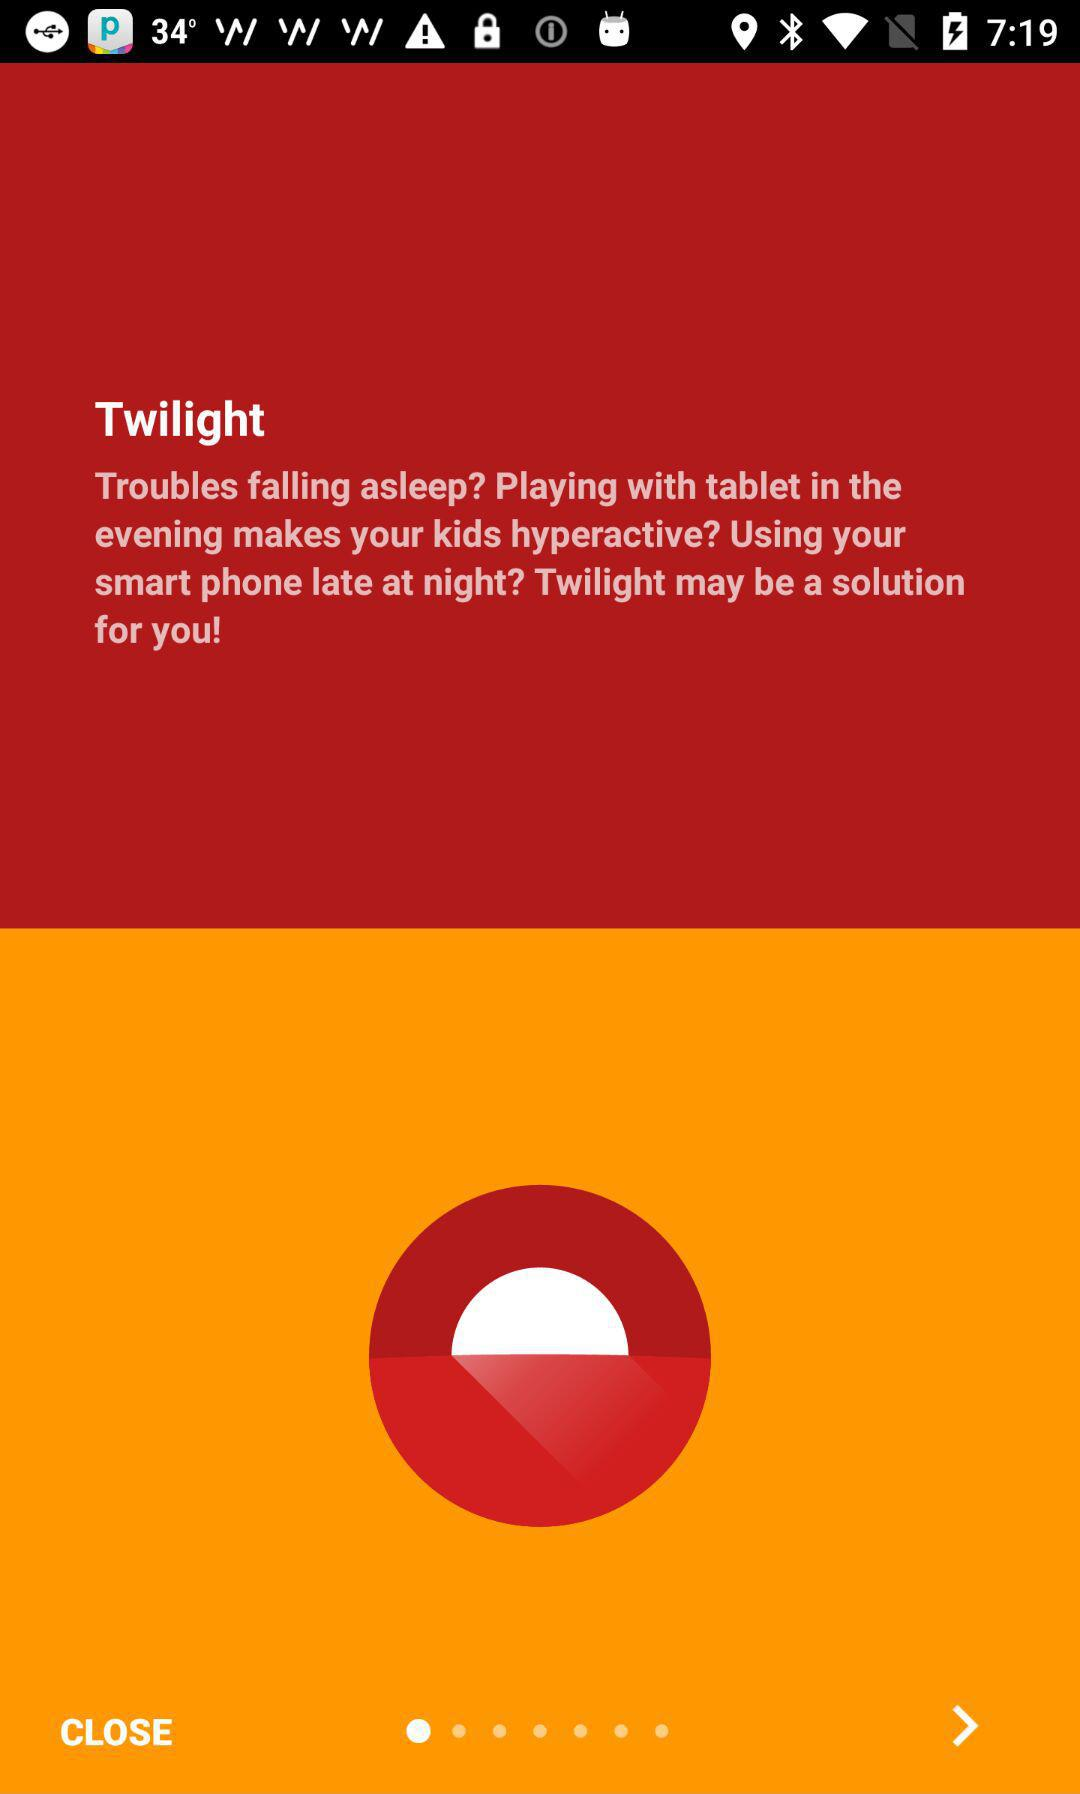Icon: (951, 1703, 980, 1749)
Image: (368, 1184, 711, 1527)
PageIndicator: (405, 1717, 671, 1747)
Text: (94, 468, 965, 654), (95, 399, 266, 448), (61, 1717, 174, 1747)
UpperTaskBar: (1, 1, 1080, 64)
